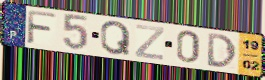0: (175, 29, 202, 65)
5: (61, 13, 89, 53)
D: (206, 32, 238, 69)
F: (25, 9, 59, 47)
Q: (99, 20, 132, 57)
Z: (133, 23, 166, 62)
